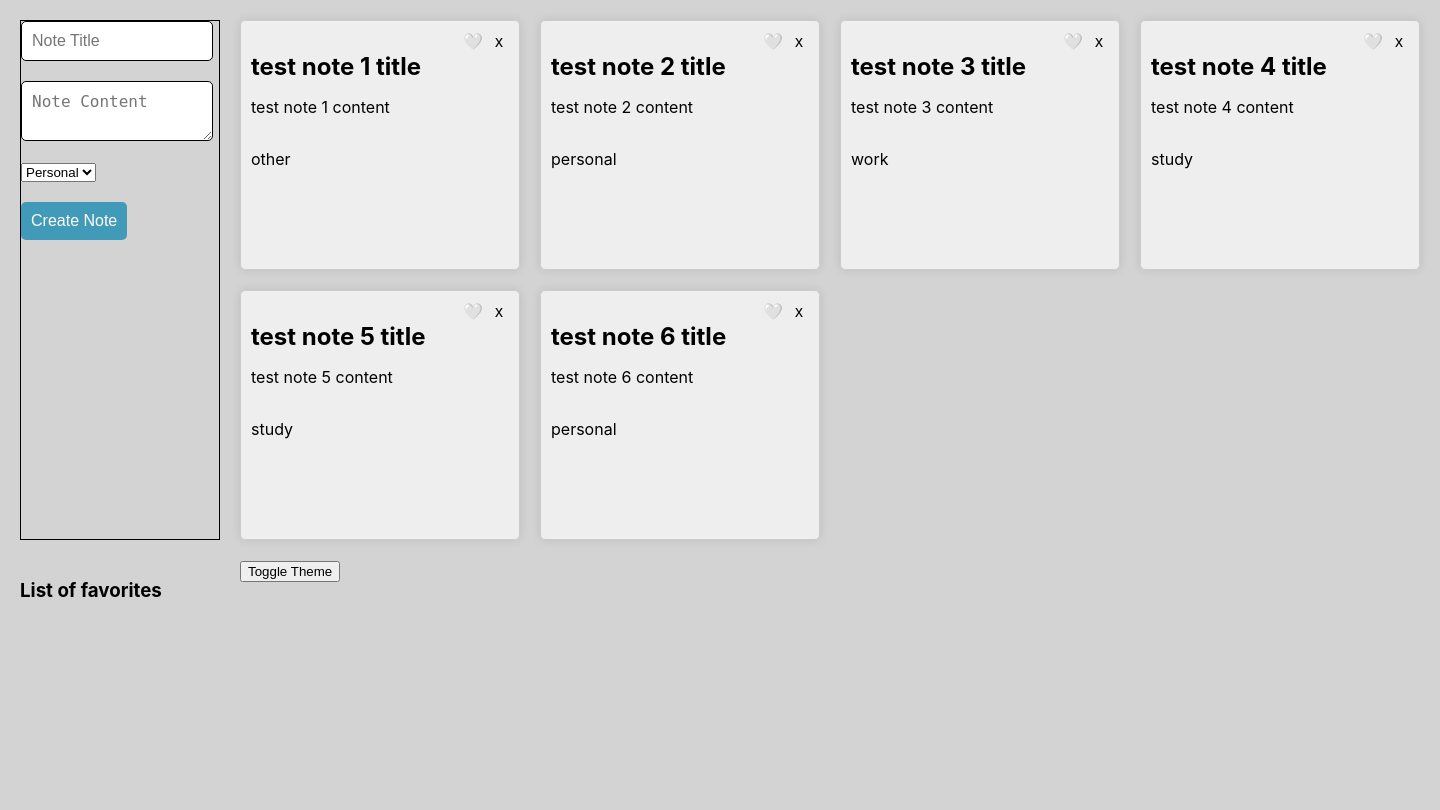
Test: Create StickyNote › does note get filtered on delete
The image size is (1440, 810).
Expected: the number of elements with test id "notes-item" is 6, [240,20,520,270]; [540,20,820,270]; [840,20,1120,270]; [1140,20,1420,270]; [240,290,520,540]; [540,290,820,540]
What coordinates should you click on to do the following:
click the button with test id "remove-note-1"
I would click on:
 (499, 42)
Its box is [489,31,509,52].
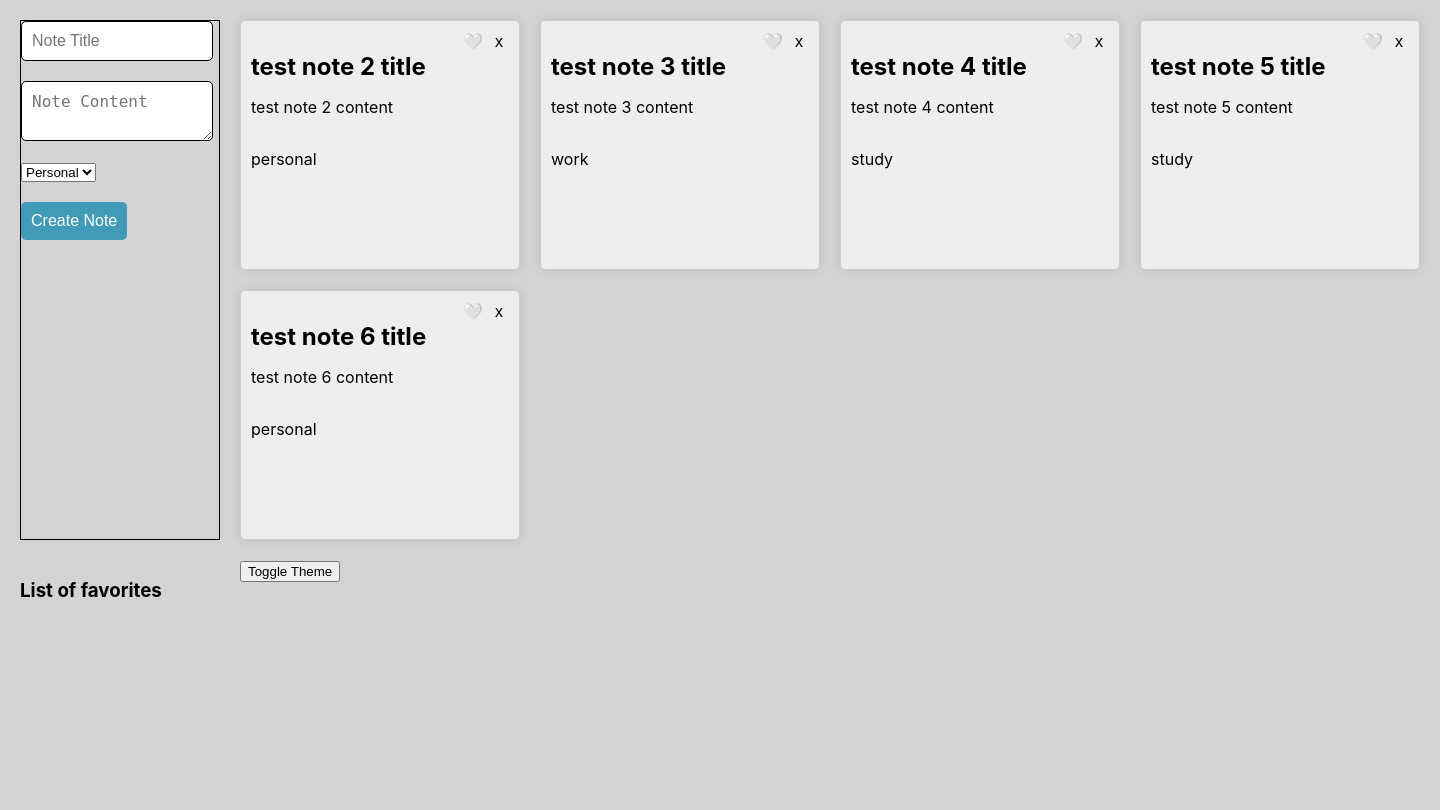
Result: the number of elements with test id "notes-item" is 5 at [240,20,520,270]; [540,20,820,270]; [840,20,1120,270]; [1140,20,1420,270]; [240,290,520,540]
